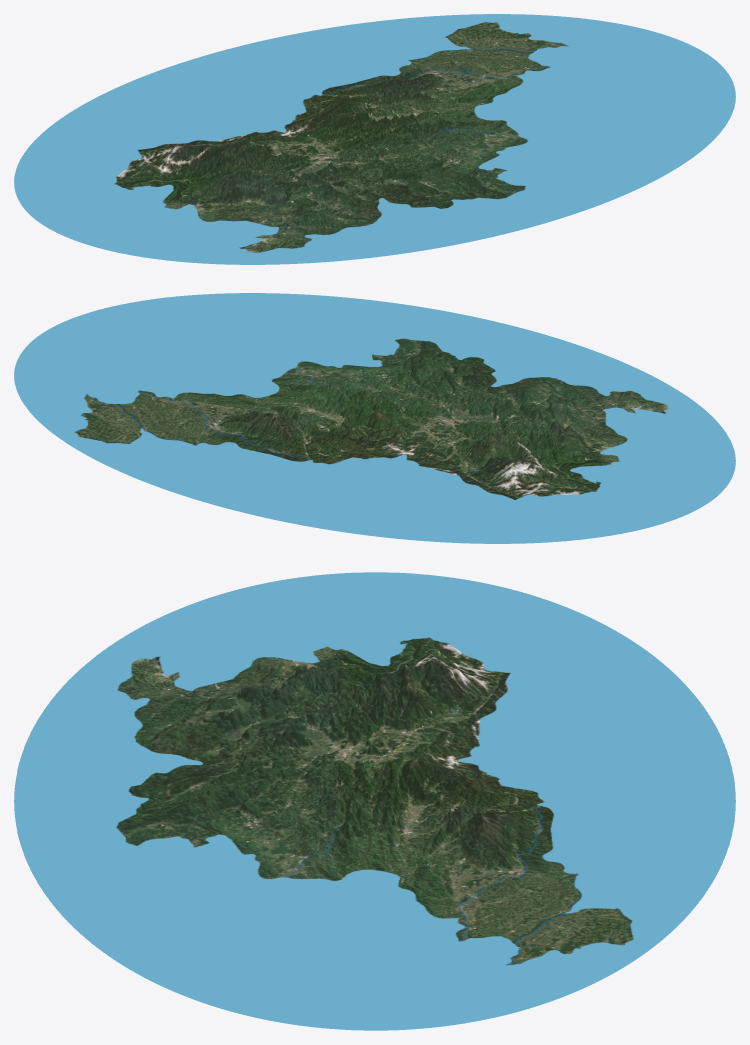
Rendered from SVN-previa-terrain.glb.
3 views of the same model, one above another, from view 1: azimuth 30°, elevation 25°; view 2: azimuth 150°, elevation 25°; view 3: azimuth 270°, elevation 25° (orthographic). The views are drawn at different scales.
Visible parts, largest first — view 1: Eslovénia; view 2: Eslovénia; view 3: Eslovénia.
Part boxes in pixels (x1,y1,x2,y2): Eslovénia: (14, 14, 735, 264); Eslovénia: (14, 293, 735, 543); Eslovénia: (14, 572, 735, 1030).
Bounding box in the file's own units: 2.44 × 0.0772 × 1.63.
1 material, 1 textured.
